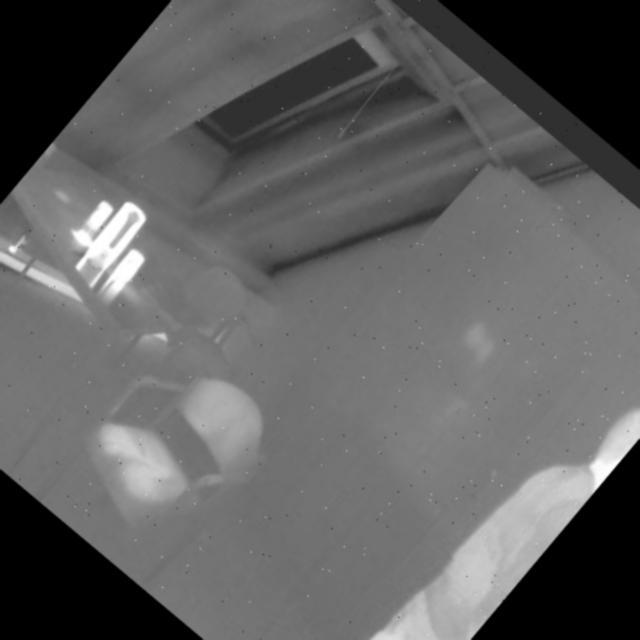person: (287, 350, 640, 640)
